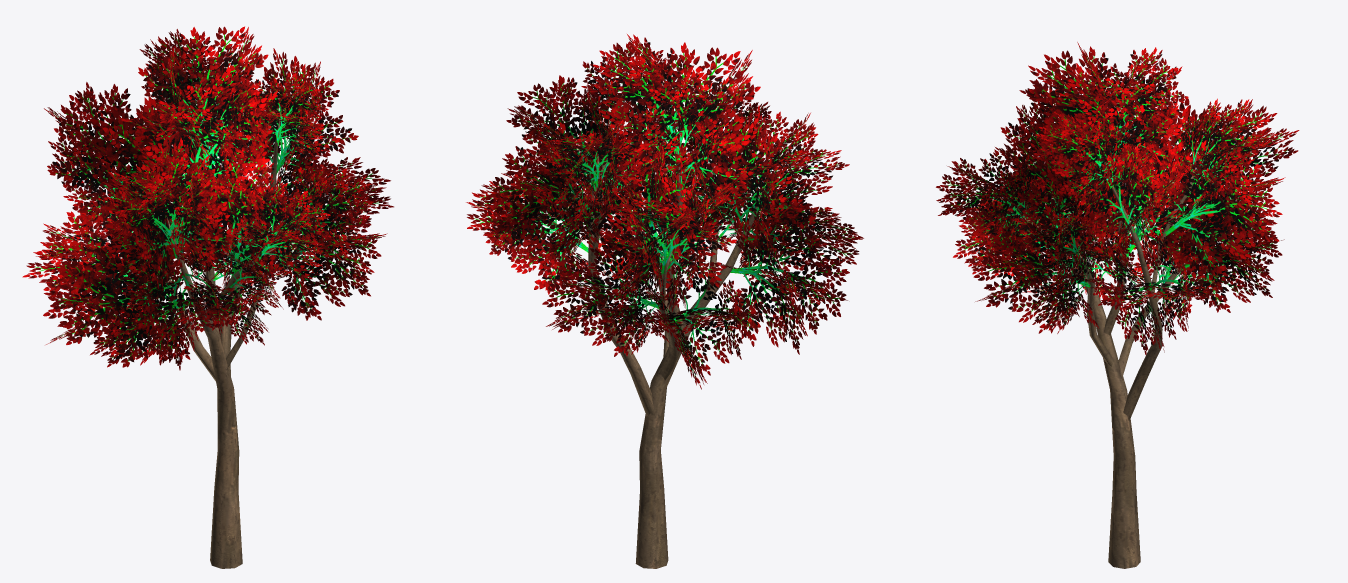
The model's file is Tree_Tall_02.fbx.
The picture shows the model from 3 angles, left to right: view 1: azimuth 30°, elevation 25°; view 2: azimuth 150°, elevation 25°; view 3: azimuth 270°, elevation 25°; orthographic projection. The views are drawn at different scales.
Parts seen in each view (by area): view 1: Tree_Tall_02_LOD0; view 2: Tree_Tall_02_LOD0; view 3: Tree_Tall_02_LOD0.
Boxes of the visible parts, x1,y1,x2,y2 form: Tree_Tall_02_LOD0: (22,26,393,568); Tree_Tall_02_LOD0: (466,34,863,568); Tree_Tall_02_LOD0: (936,42,1299,568).
Size of what is drawn, in the model's own units: 9.62 by 13.18 by 9.53.
Materials: 1 (1 with a texture image).
